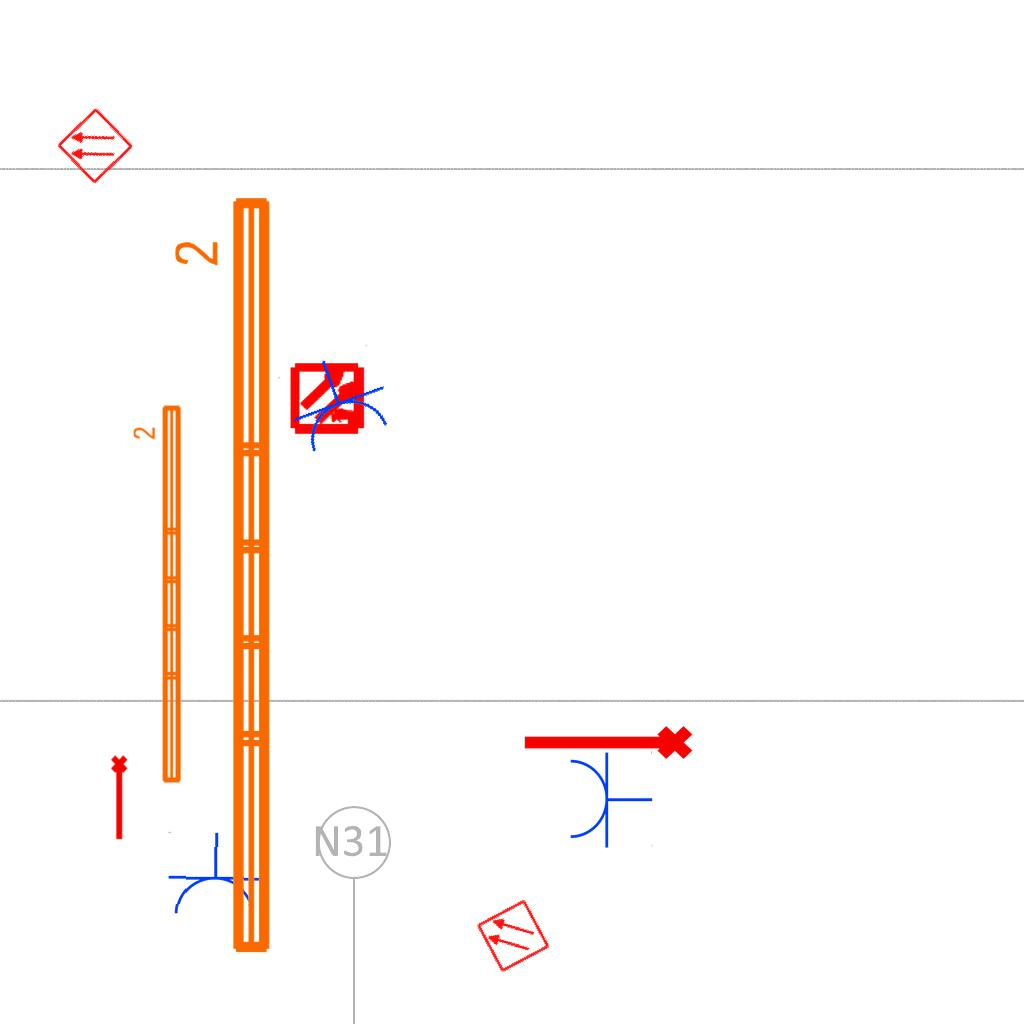ASR_Ansaugoeffnung: (519, 722, 695, 768), (109, 754, 132, 842)
Ambulanz_Pendelleuchte_LED: (170, 189, 282, 963), (131, 401, 187, 788)
OT_Multisensormelder_(Kombination_RMO_WMD): (273, 342, 386, 455)
RMO_Rauchmelder_optischer: (55, 106, 135, 186), (475, 898, 551, 974)
Schukosteckdose_einfach: (275, 343, 399, 460), (164, 831, 266, 920), (566, 749, 653, 849)
